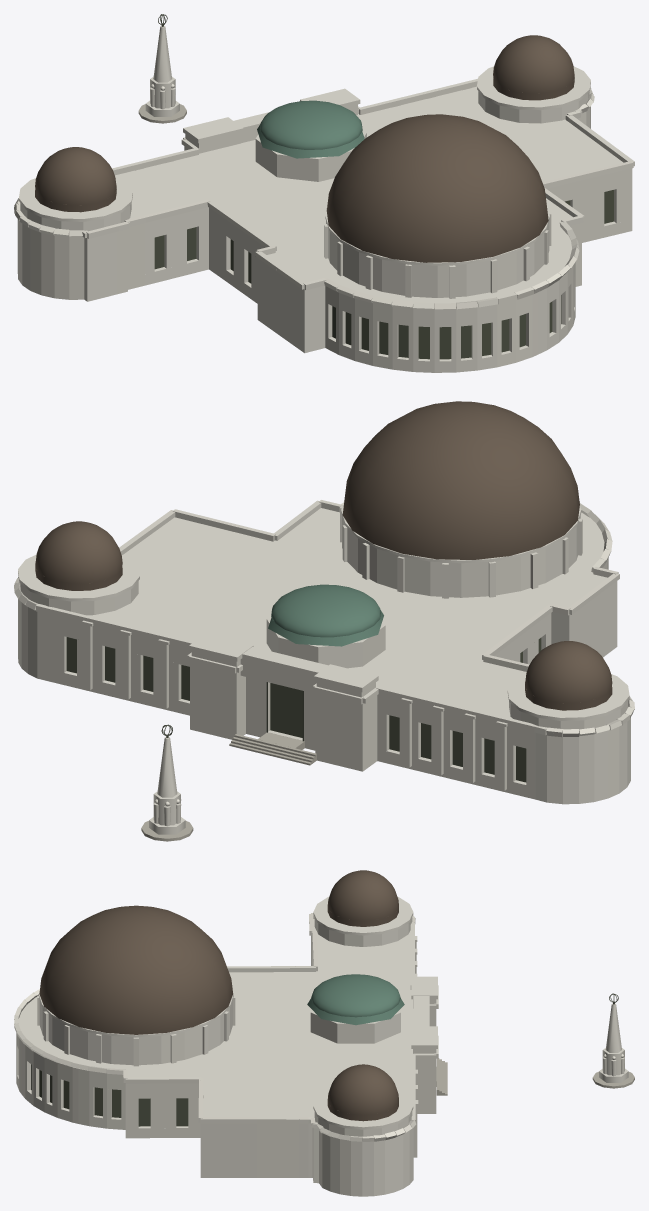
File: griffith-observatory-far.glb
The picture shows the model from 3 angles, top to bottom: view 1: azimuth 30°, elevation 25°; view 2: azimuth 150°, elevation 25°; view 3: azimuth 270°, elevation 25°; orthographic projection. The views are drawn at different scales.
Parts seen in each view (by area): view 1: griffith-observatory-0-concrete, griffith-observatory-0-copper, griffith-observatory-0-patina, griffith-observatory-0-glow; view 2: griffith-observatory-0-concrete, griffith-observatory-0-copper, griffith-observatory-0-patina, griffith-observatory-0-glow, griffith-observatory-0-terrace; view 3: griffith-observatory-0-concrete, griffith-observatory-0-copper, griffith-observatory-0-patina, griffith-observatory-0-glow, griffith-observatory-0-terrace.
Boxes of the visible parts, bbox=[...] form: griffith-observatory-0-concrete: bbox=[14, 25, 634, 372]; griffith-observatory-0-copper: bbox=[35, 35, 574, 262]; griffith-observatory-0-patina: bbox=[257, 100, 364, 158]; griffith-observatory-0-glow: bbox=[154, 190, 613, 359]; griffith-observatory-0-concrete: bbox=[14, 499, 634, 834]; griffith-observatory-0-copper: bbox=[35, 401, 612, 710]; griffith-observatory-0-patina: bbox=[268, 584, 383, 646]; griffith-observatory-0-glow: bbox=[66, 637, 541, 782]; griffith-observatory-0-terrace: bbox=[141, 732, 316, 841]; griffith-observatory-0-concrete: bbox=[14, 896, 628, 1196]; griffith-observatory-0-copper: bbox=[39, 870, 398, 1121]; griffith-observatory-0-patina: bbox=[307, 974, 404, 1025]; griffith-observatory-0-glow: bbox=[31, 1064, 188, 1126]; griffith-observatory-0-terrace: bbox=[436, 1058, 634, 1095].
Size of the model in its own units: 72.29 by 23.2 by 79.45.
